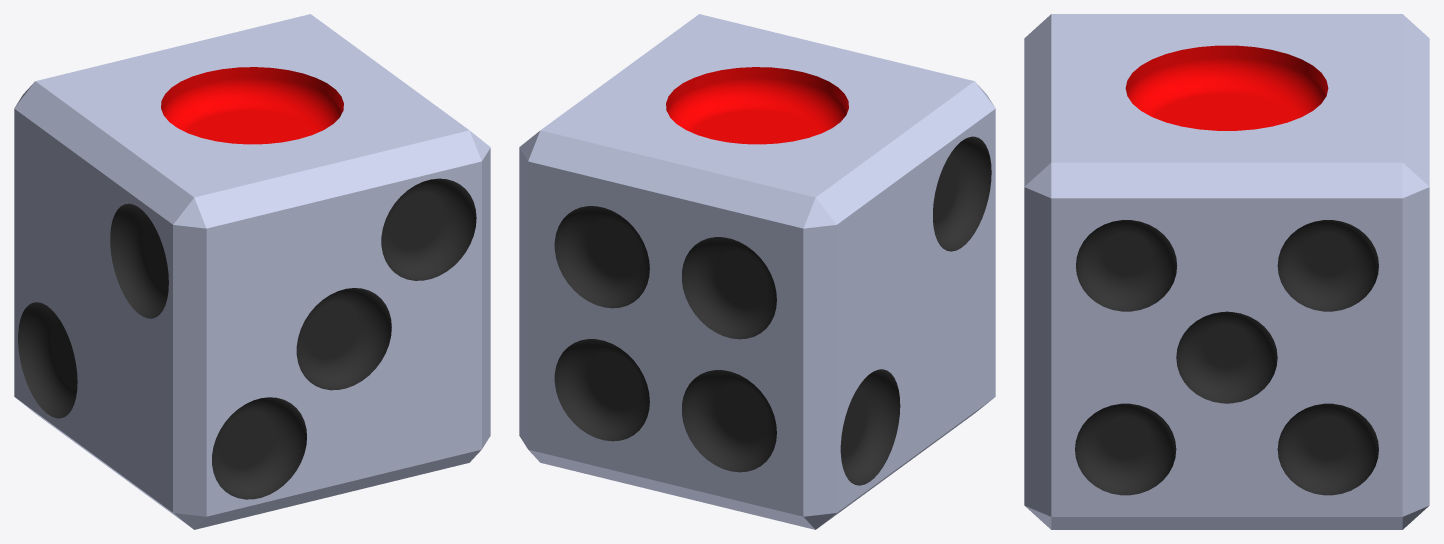
Rendered from saikoro.glb.
3 renders of one model, left to right at view 1: azimuth 30°, elevation 25°; view 2: azimuth 150°, elevation 25°; view 3: azimuth 270°, elevation 25°, orthographic. The views are drawn at different scales.
Parts seen in each view (by area): view 1: コンシス有料CAD; view 2: コンシス有料CAD; view 3: コンシス有料CAD.
Boxes of the visible parts, x1=… form: コンシス有料CAD: x1=14, y1=14, x2=490, y2=529; コンシス有料CAD: x1=519, y1=14, x2=995, y2=529; コンシス有料CAD: x1=1024, y1=14, x2=1429, y2=529.
Size of the model in its own units: 0.03 by 0.03 by 0.03.
